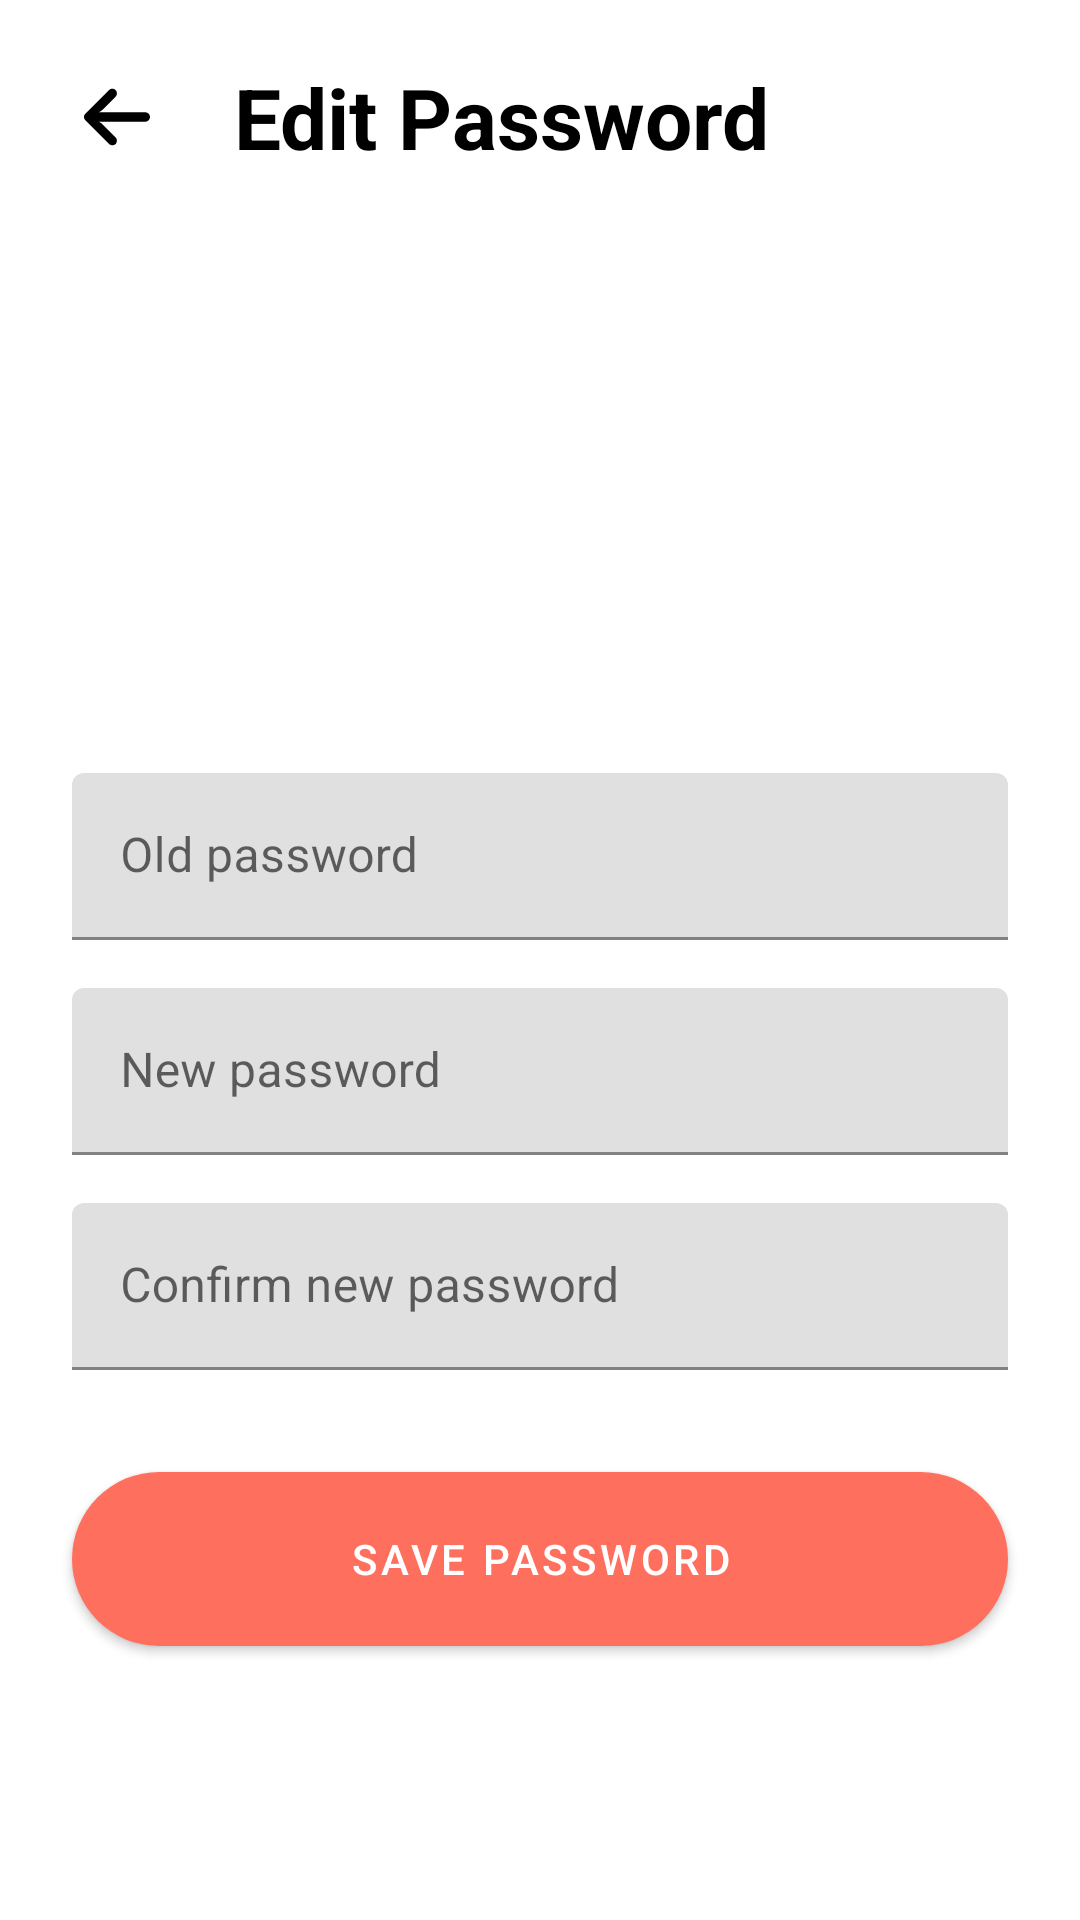

Icons on this 1080 x 1920 Android screen, each with the point to tap as [x,y]:
arrow: [117,117]
